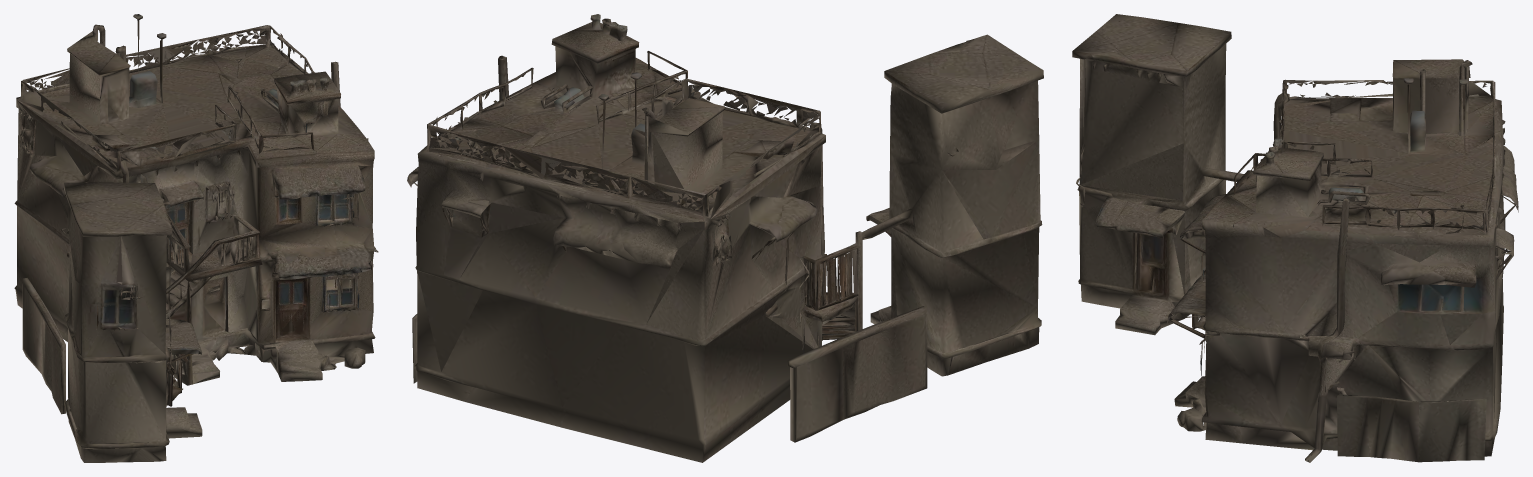
The model's file is lajes_casa_tijolo.glb.
3 views of the same model, side by side, from view 1: azimuth 30°, elevation 25°; view 2: azimuth 150°, elevation 25°; view 3: azimuth 270°, elevation 25° (orthographic). The views are drawn at different scales.
Visible parts, largest first — view 1: mesh_node; view 2: mesh_node; view 3: mesh_node.
Boxes of the visible parts, x1,y1,x2,y2 form: mesh_node: [14, 14, 378, 462]; mesh_node: [407, 14, 1043, 462]; mesh_node: [1072, 14, 1518, 462].
Size of the model in its own units: 14.14 by 10 by 13.35.
Materials: 1 (1 with a texture image).
